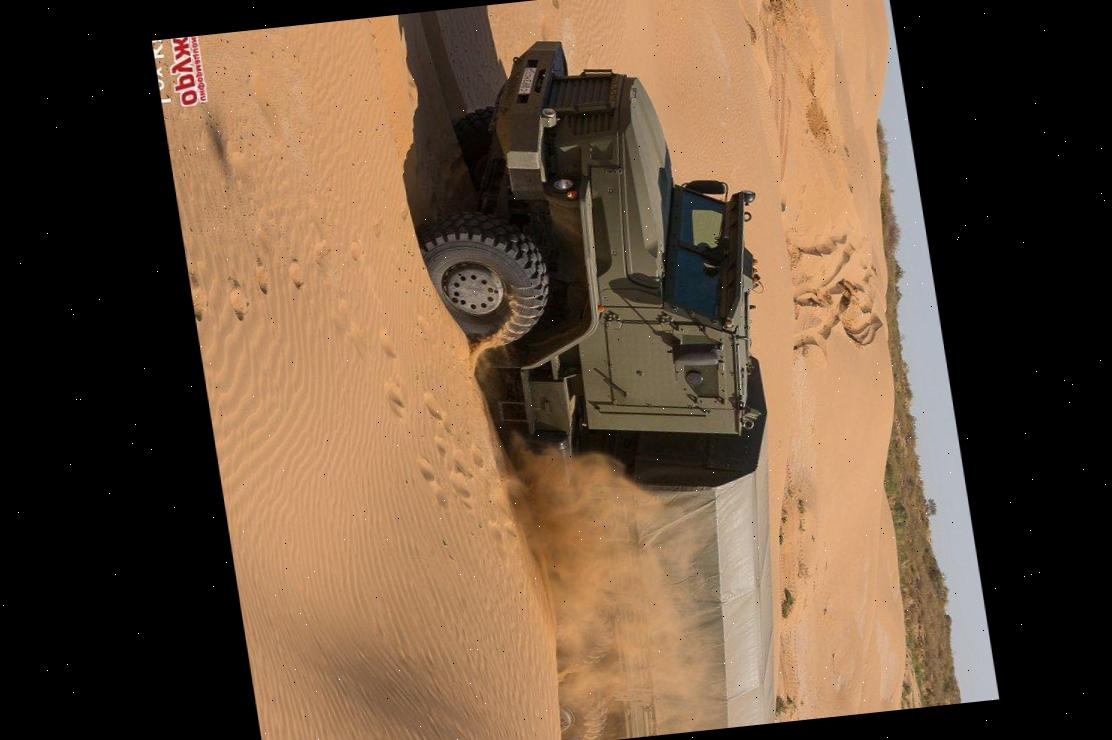truck: (385, 19, 838, 740)
